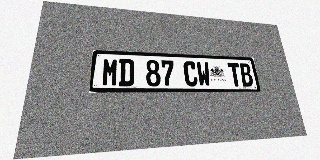7: (160, 60, 175, 86)
8: (146, 60, 161, 86)
B: (239, 63, 254, 86)
C: (183, 61, 198, 86)
D: (118, 59, 134, 86)
M: (101, 58, 119, 86)
T: (227, 63, 242, 86)
W: (196, 61, 211, 86)
